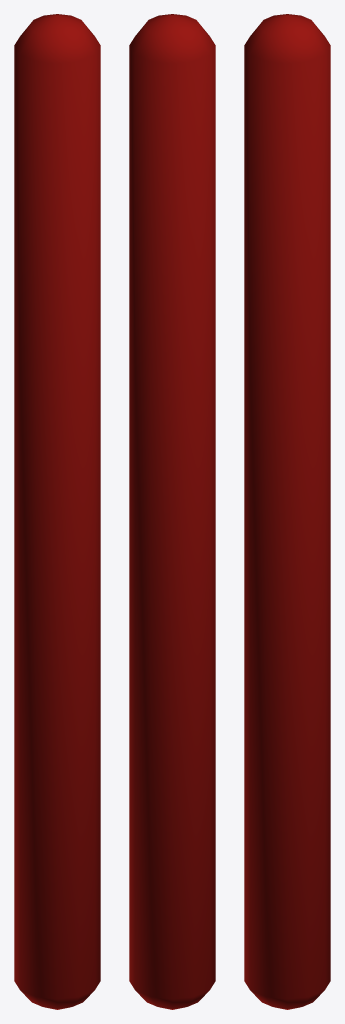
File: 레이져.fbx
3 views of the same model, side by side, from view 1: azimuth 90°, elevation 25°; view 2: azimuth 210°, elevation 25°; view 3: azimuth 270°, elevation 25° (orthographic).
Parts seen in each view (by area): view 1: Cylinder008; view 2: Cylinder008; view 3: Cylinder008.
Part boxes in pixels (box(x1,y1,x2,y2)): Cylinder008: box(14, 14, 100, 1009); Cylinder008: box(129, 14, 215, 1009); Cylinder008: box(244, 14, 330, 1009).
Bounding box in the file's own units: 8.04 × 8.04 × 102.
